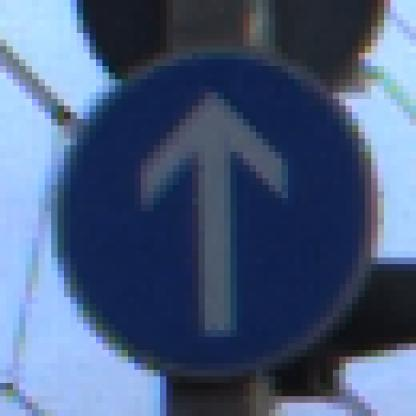AheadOnly: (39, 34, 385, 384)
